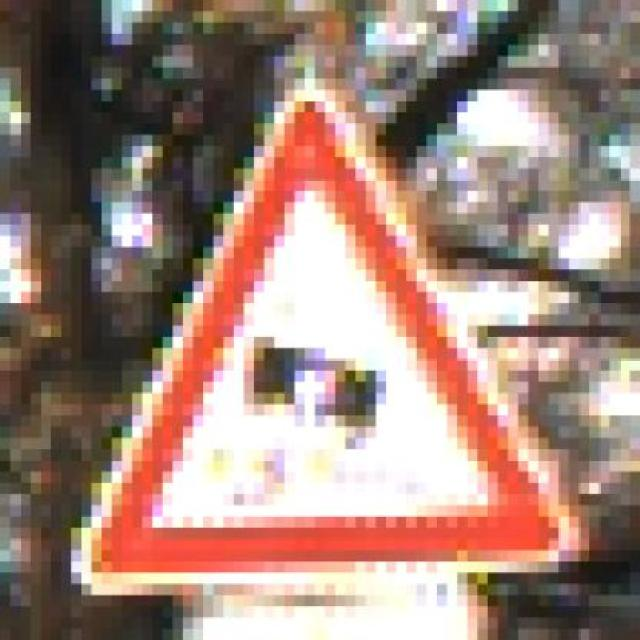Slippery Road Ahead: (51, 67, 620, 607)
